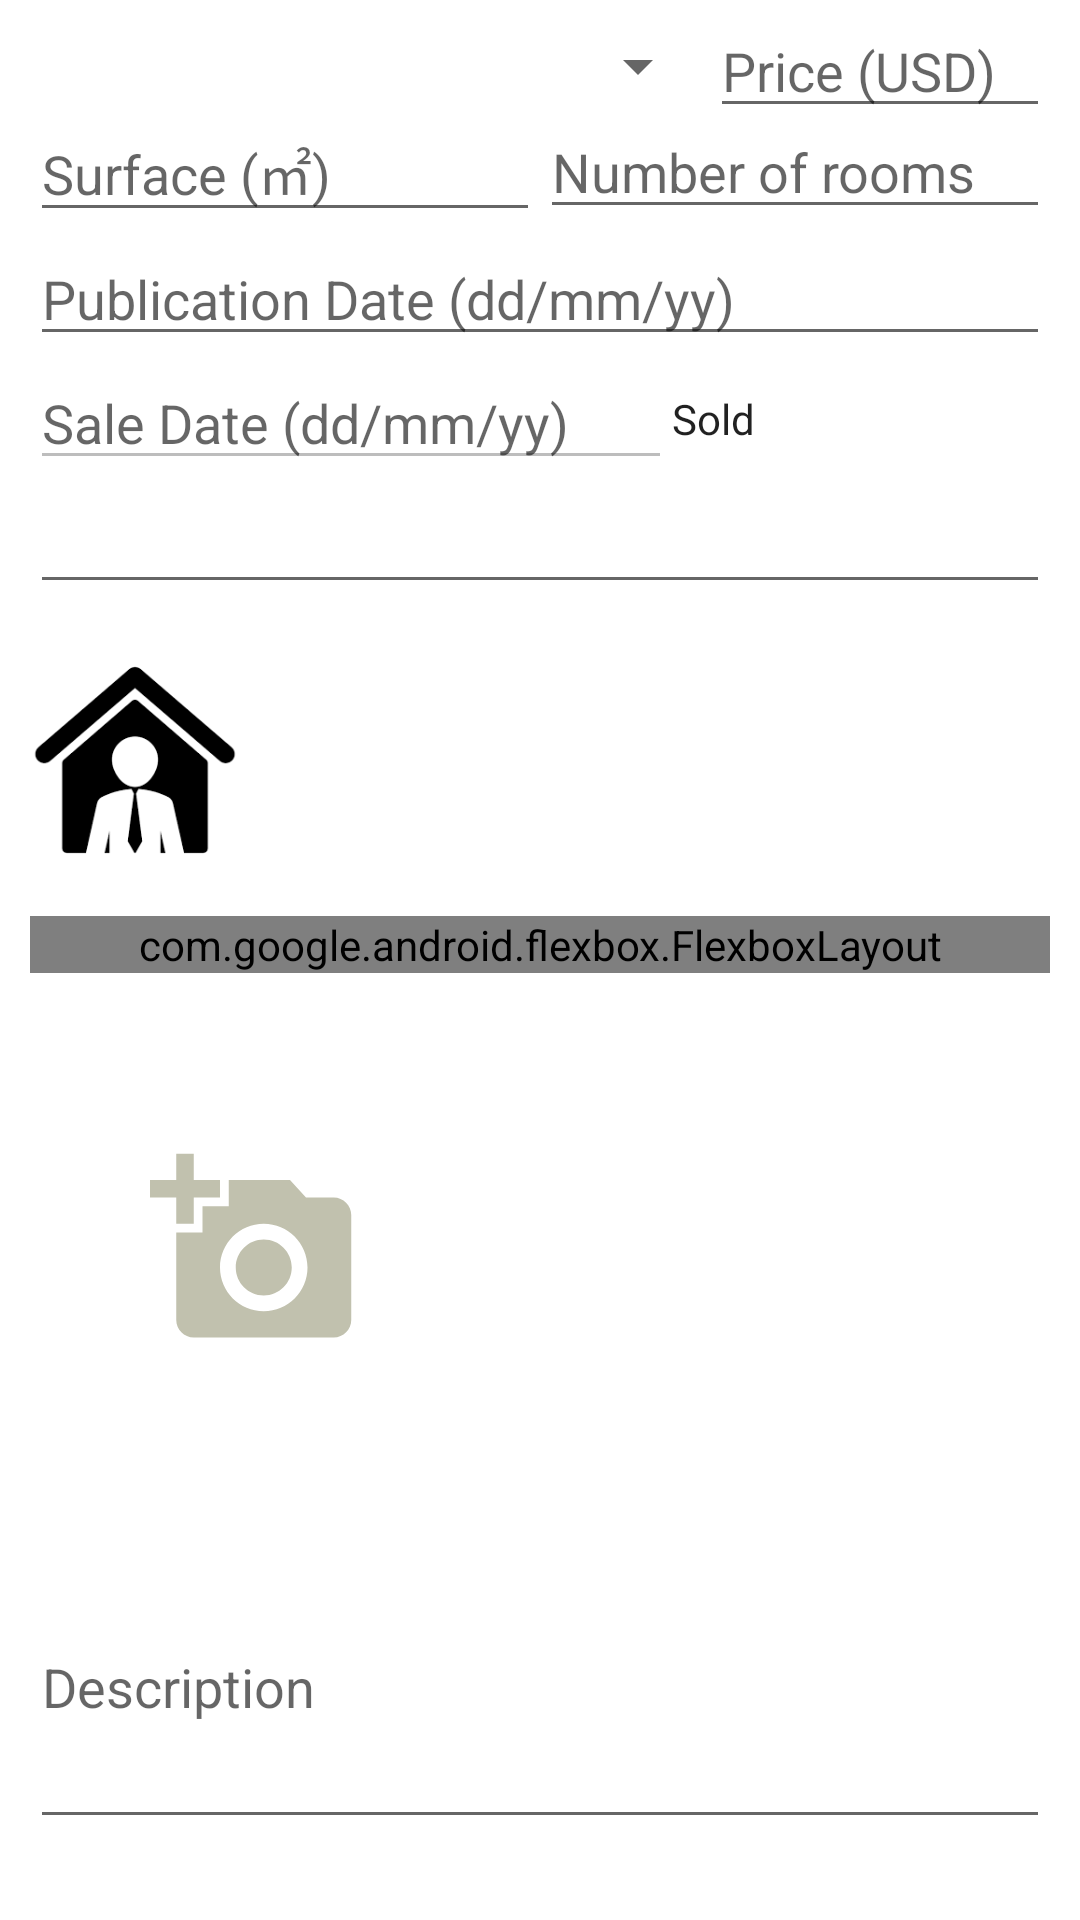

Screen size 1080 × 1920. Icon name, then its box in pixels as bbox=(x1, y1, x2, y2):
add photo: bbox=(150, 1154, 351, 1338)
agent: bbox=(35, 667, 235, 853)
